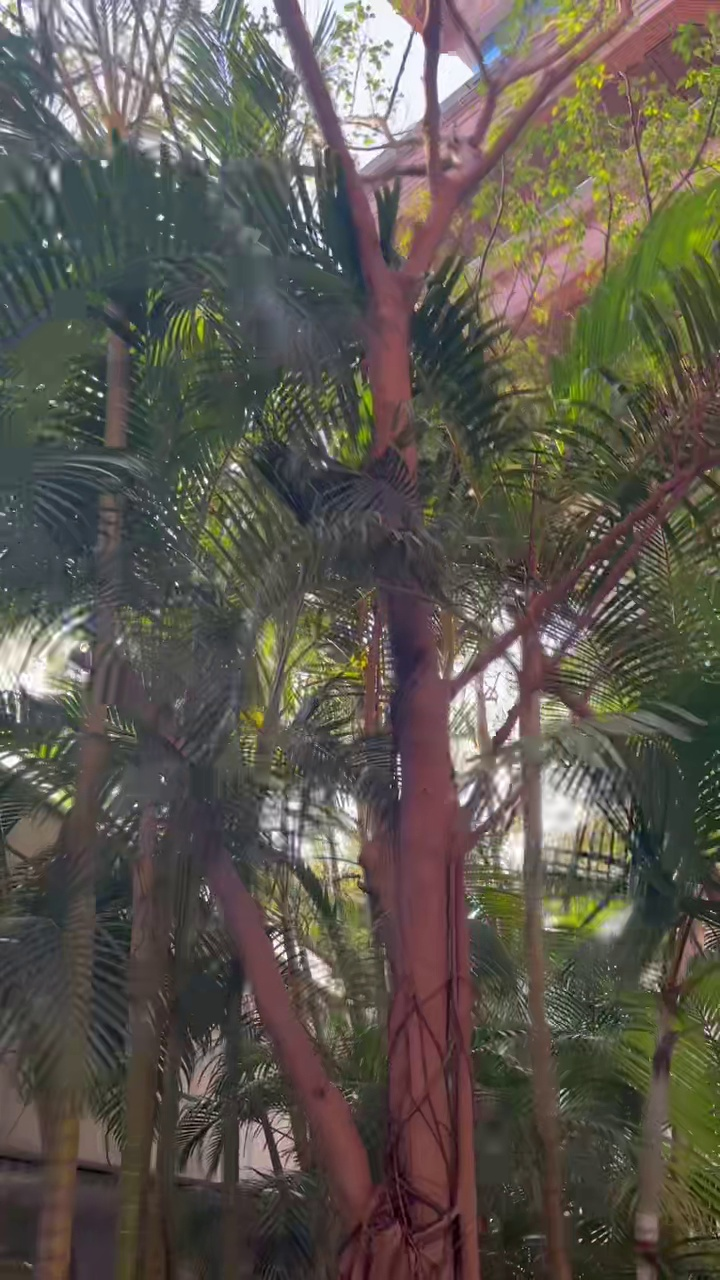Ficus benjamina: (207, 0, 574, 1279)
